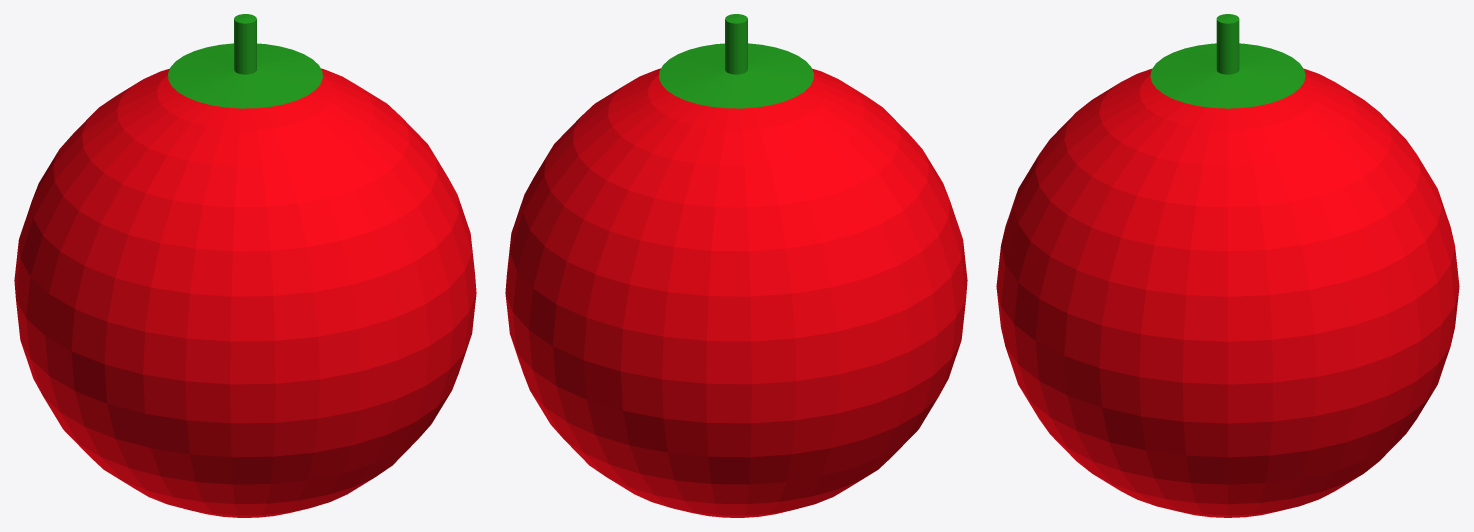
The model's file is Tomate.fbx.
3 views of the same model, side by side, from view 1: azimuth 30°, elevation 25°; view 2: azimuth 150°, elevation 25°; view 3: azimuth 270°, elevation 25° (orthographic).
Visible parts, largest first — view 1: Sphere; view 2: Sphere; view 3: Sphere.
Boxes of the visible parts, x1,y1,x2,y2 form: Sphere: (14, 14, 476, 517); Sphere: (505, 14, 967, 517); Sphere: (996, 14, 1459, 517).
Size of the model in its own units: 30.28 by 34.54 by 30.28.
Materials: 1 (1 with a texture image).
